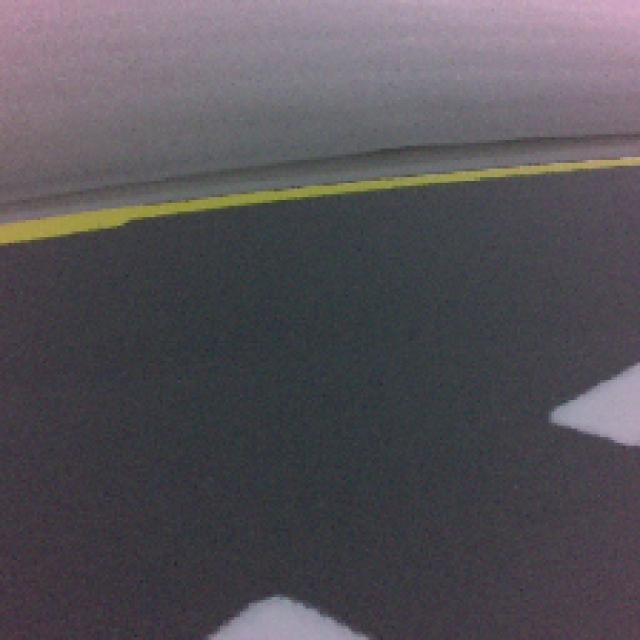Guard rail: (551, 359, 640, 448), (210, 597, 370, 640)
